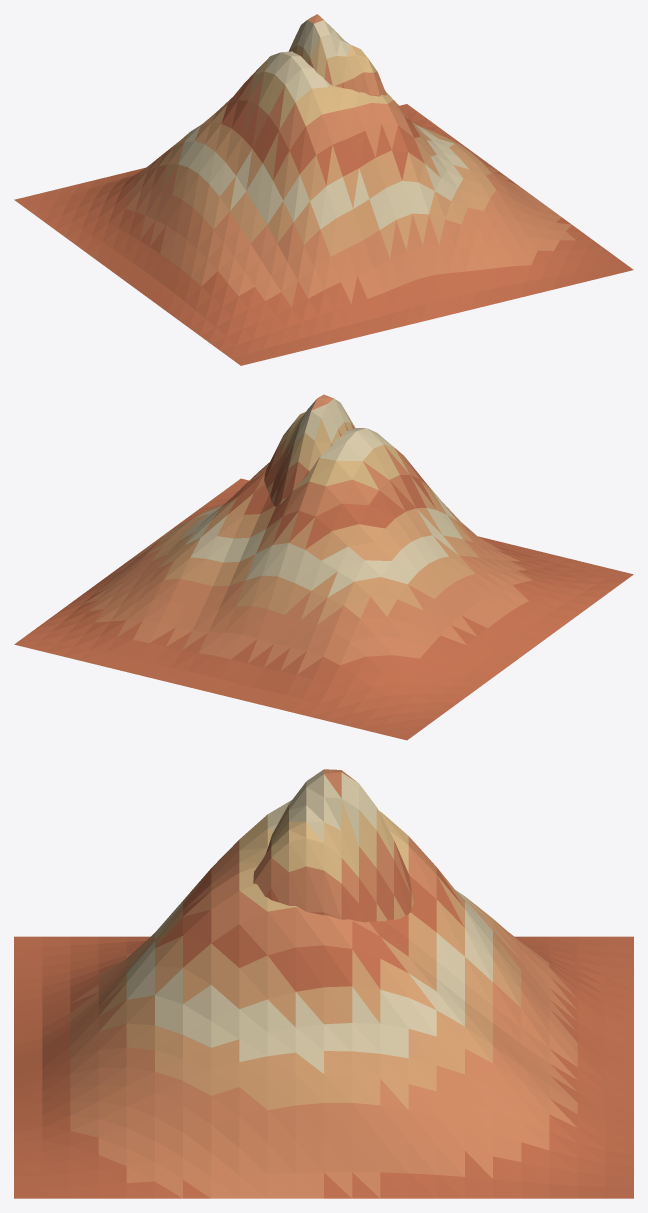
The model's file is danxia.glb.
The picture shows the model from 3 angles, top to bottom: view 1: azimuth 30°, elevation 25°; view 2: azimuth 150°, elevation 25°; view 3: azimuth 270°, elevation 25°; orthographic projection. The views are drawn at different scales.
Parts seen in each view (by area): view 1: Hill3, Hill2; view 2: Hill3, Hill2; view 3: Hill3, Hill2.
Part boxes in pixels (x1,y1,x2,y2): Hill3: (14, 51, 633, 365); Hill2: (288, 14, 386, 96); Hill3: (14, 428, 633, 740); Hill2: (264, 394, 355, 506); Hill3: (14, 800, 633, 1198); Hill2: (253, 769, 413, 922).
Size of the model in its own units: 56.78 by 30.34 by 56.78.
